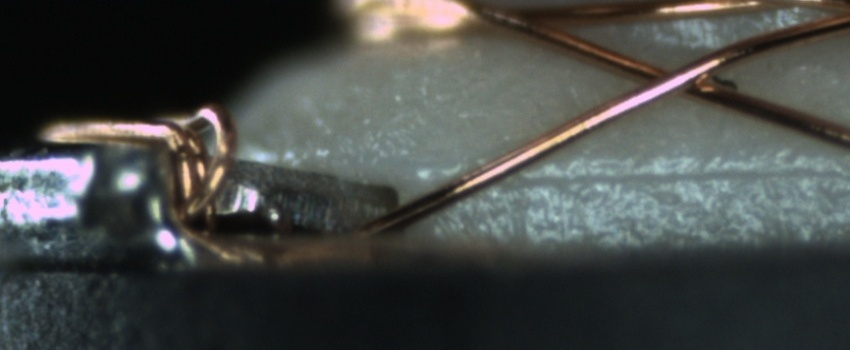CL: (621, 53, 736, 104)
DL: (479, 144, 849, 199)
TE: (41, 88, 234, 267)
